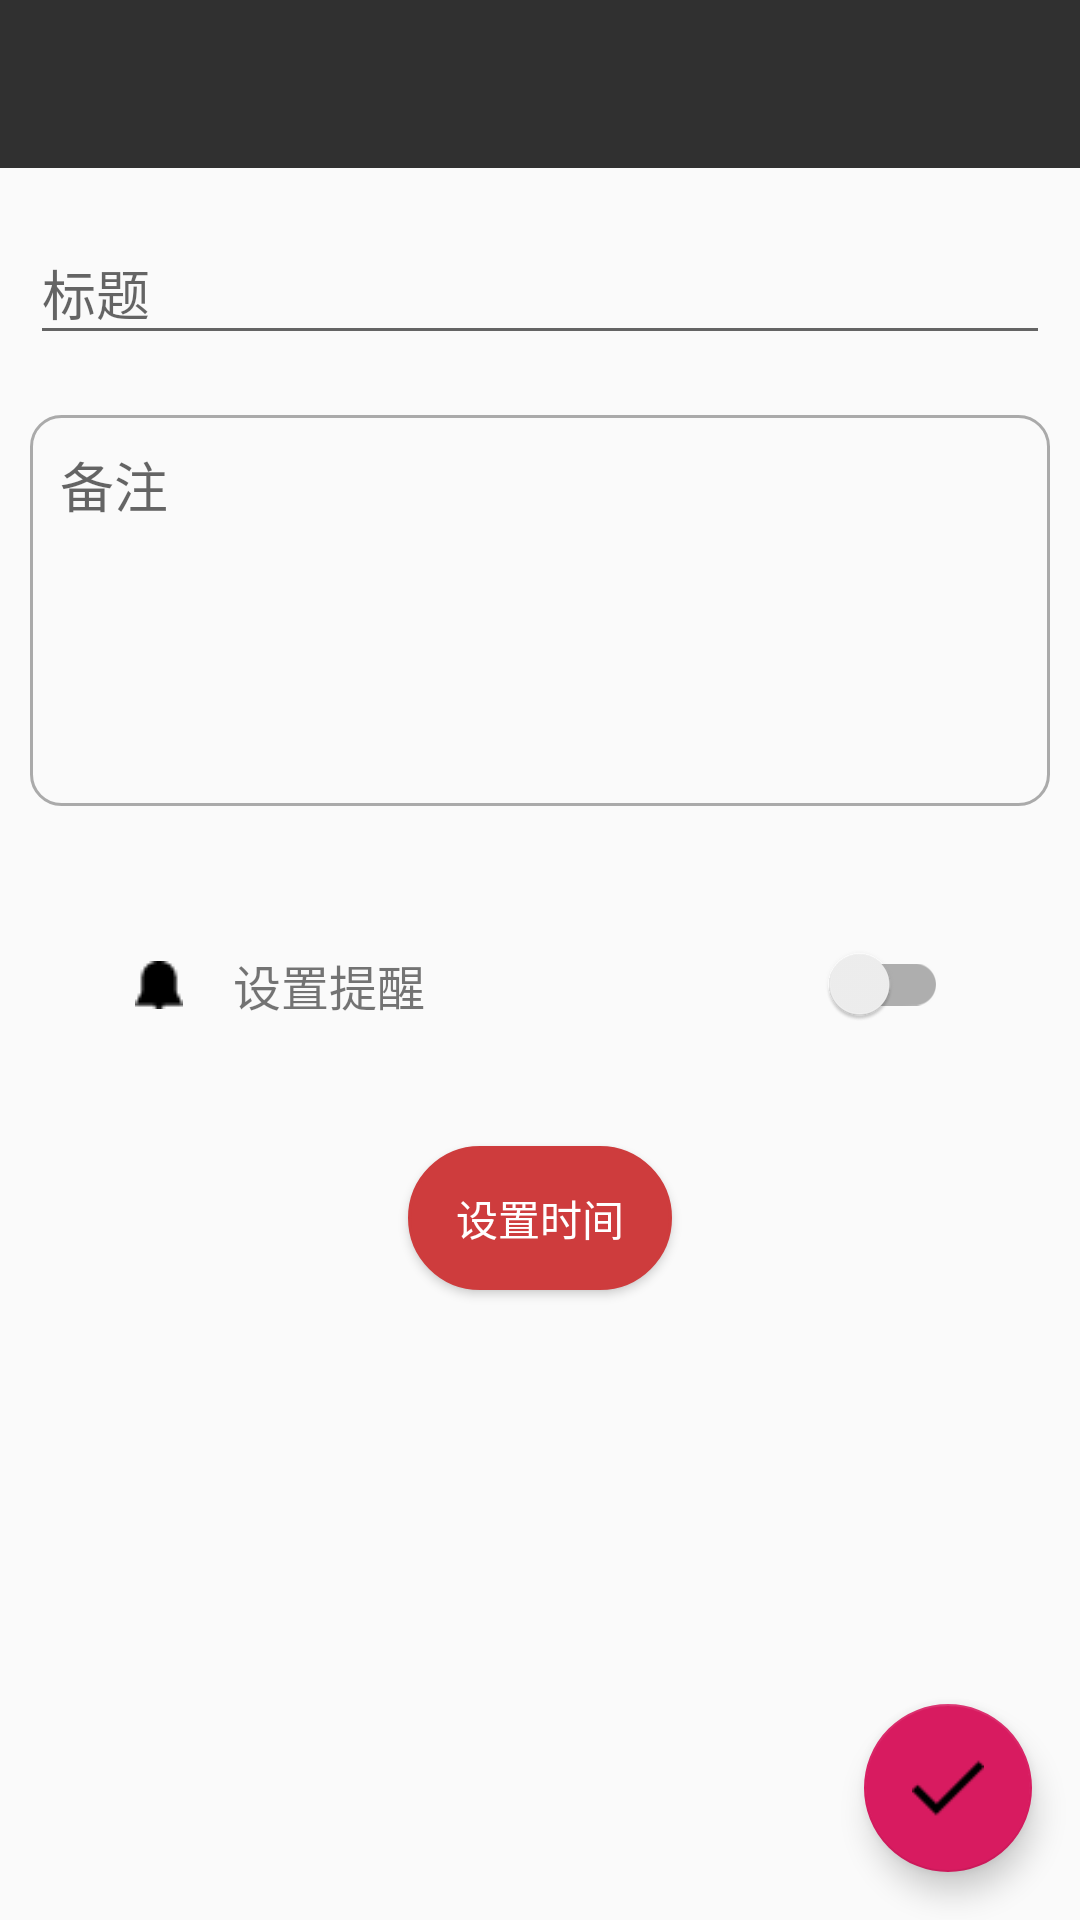

Icons on this 1080px x 1920px Android screen, each with the point to tap as (x,y):
alert: (159,985)
